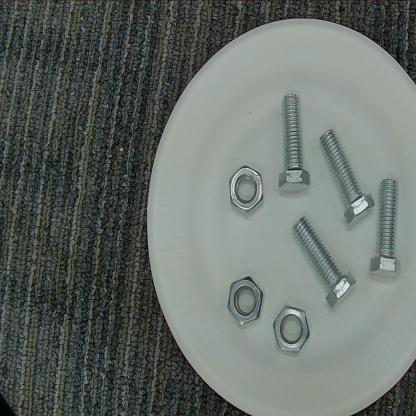FOD: (288, 212, 358, 314), (317, 128, 377, 233), (360, 170, 406, 285), (274, 87, 314, 198), (224, 158, 270, 221), (270, 303, 315, 359), (225, 272, 266, 329)
